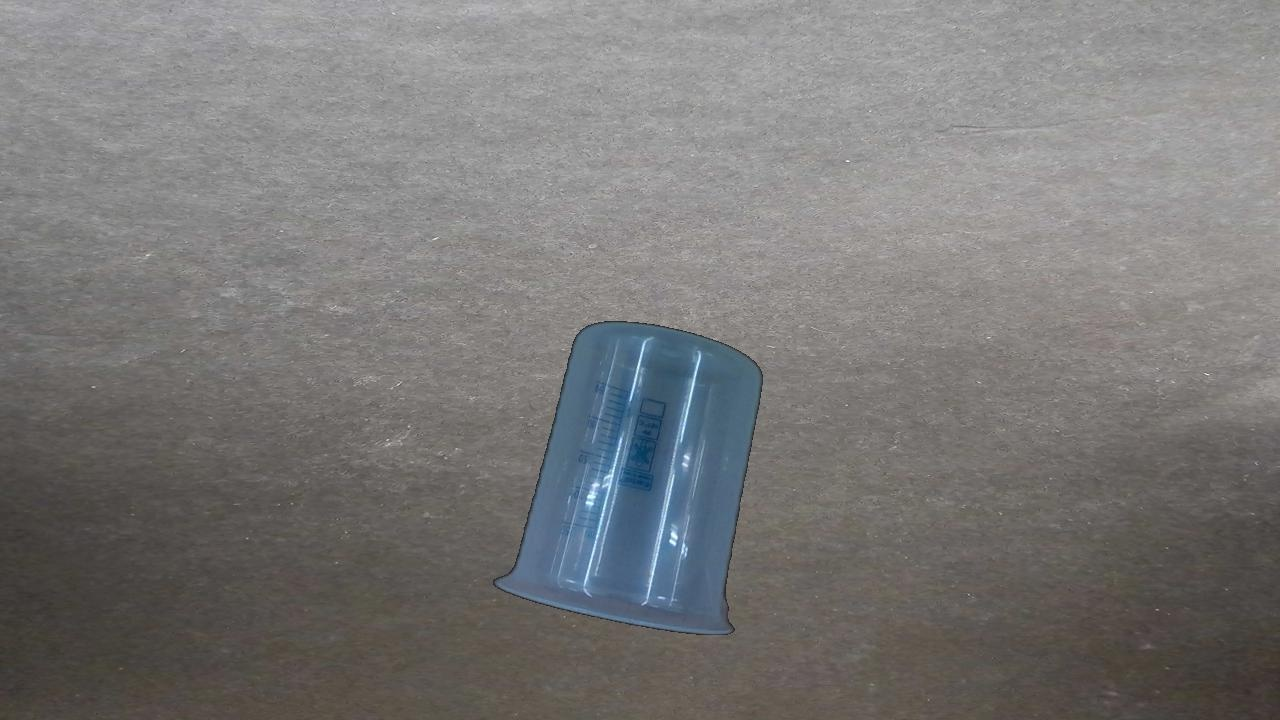cup: (492, 320, 763, 636)
